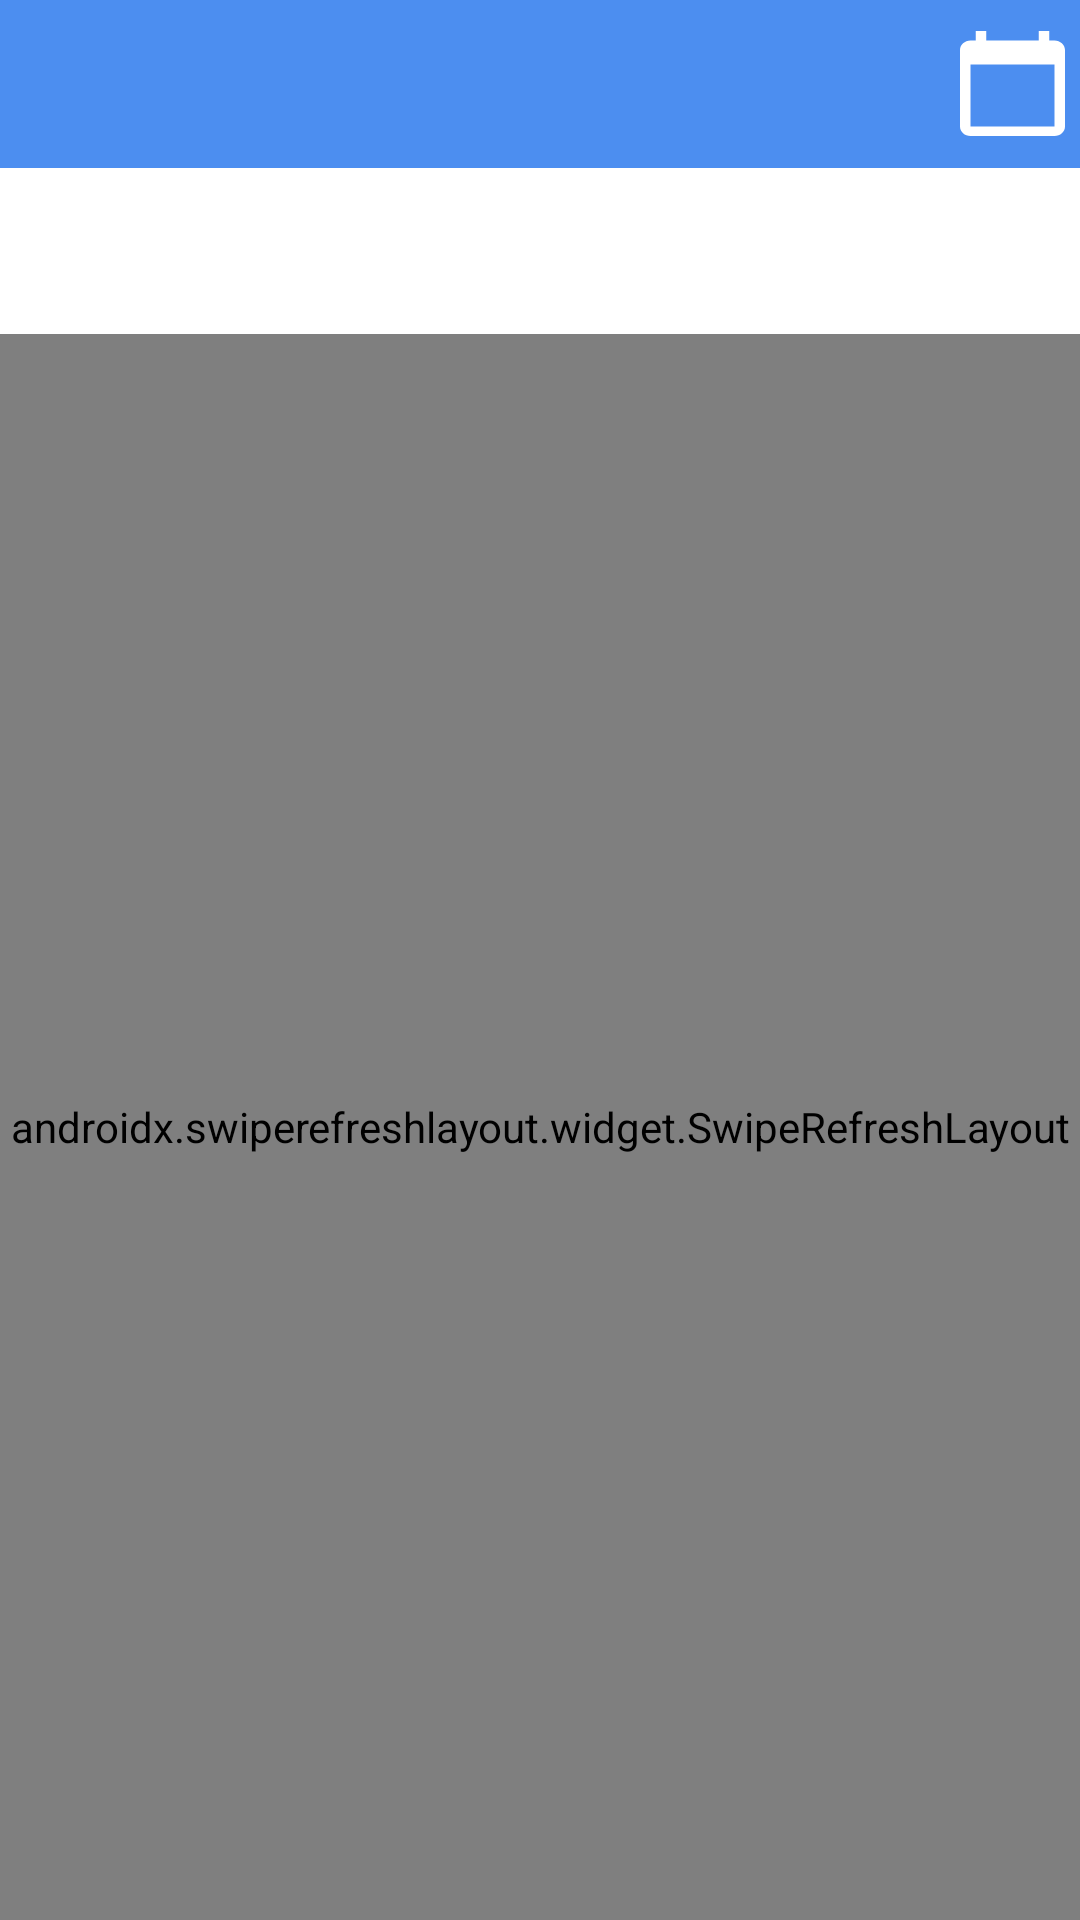

Icons on this 1080px x 1920px Android screen, each with the point to tap as (x=x, y=y):
calendar open: (x=1012, y=83)
